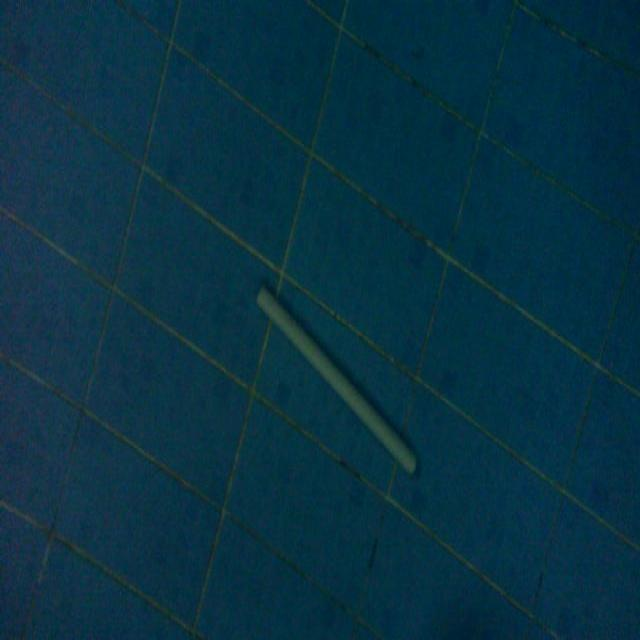Cube: (254, 277, 419, 478)
